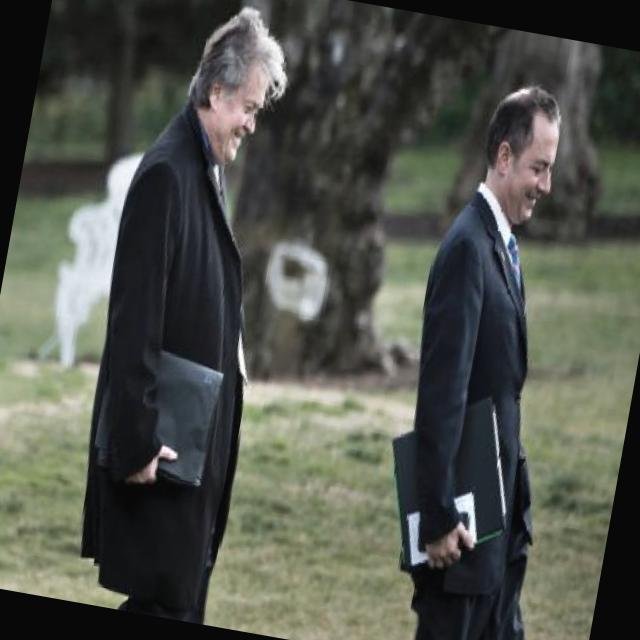Person: (48, 0, 354, 631), (350, 45, 620, 640)
